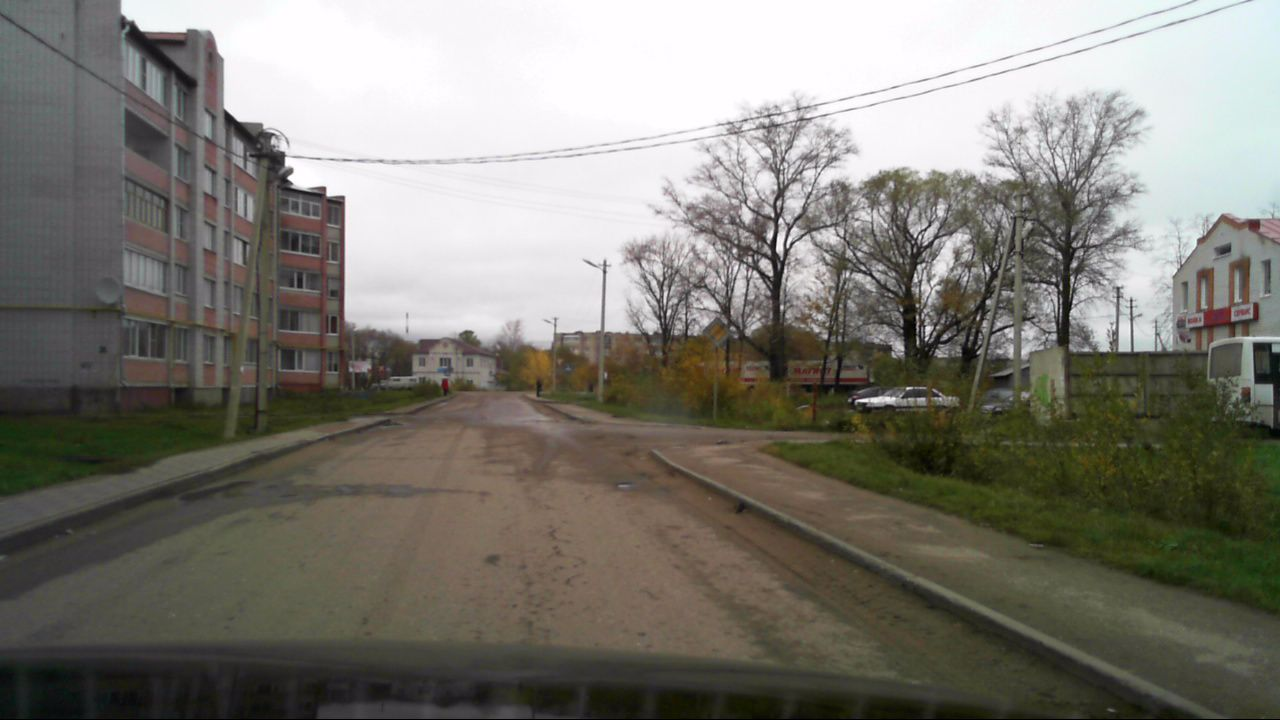main road: (703, 316, 731, 346)
